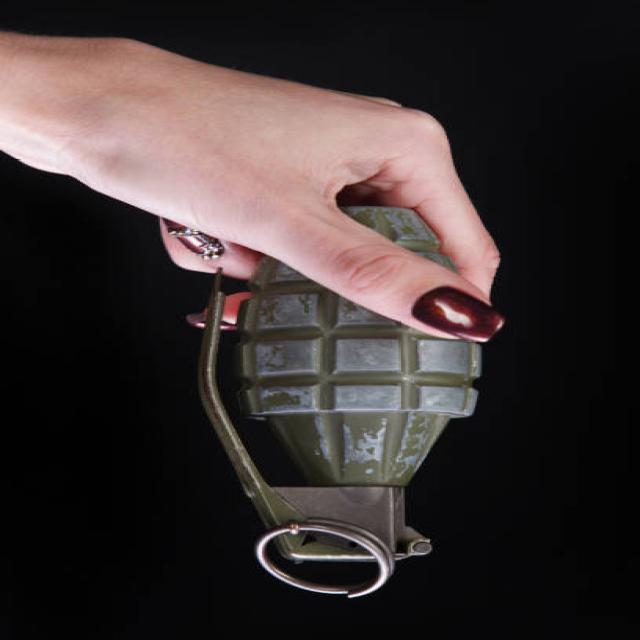grenade: (192, 198, 504, 599)
